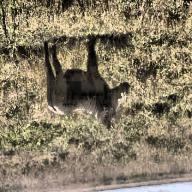boar: (34, 32, 138, 140)
